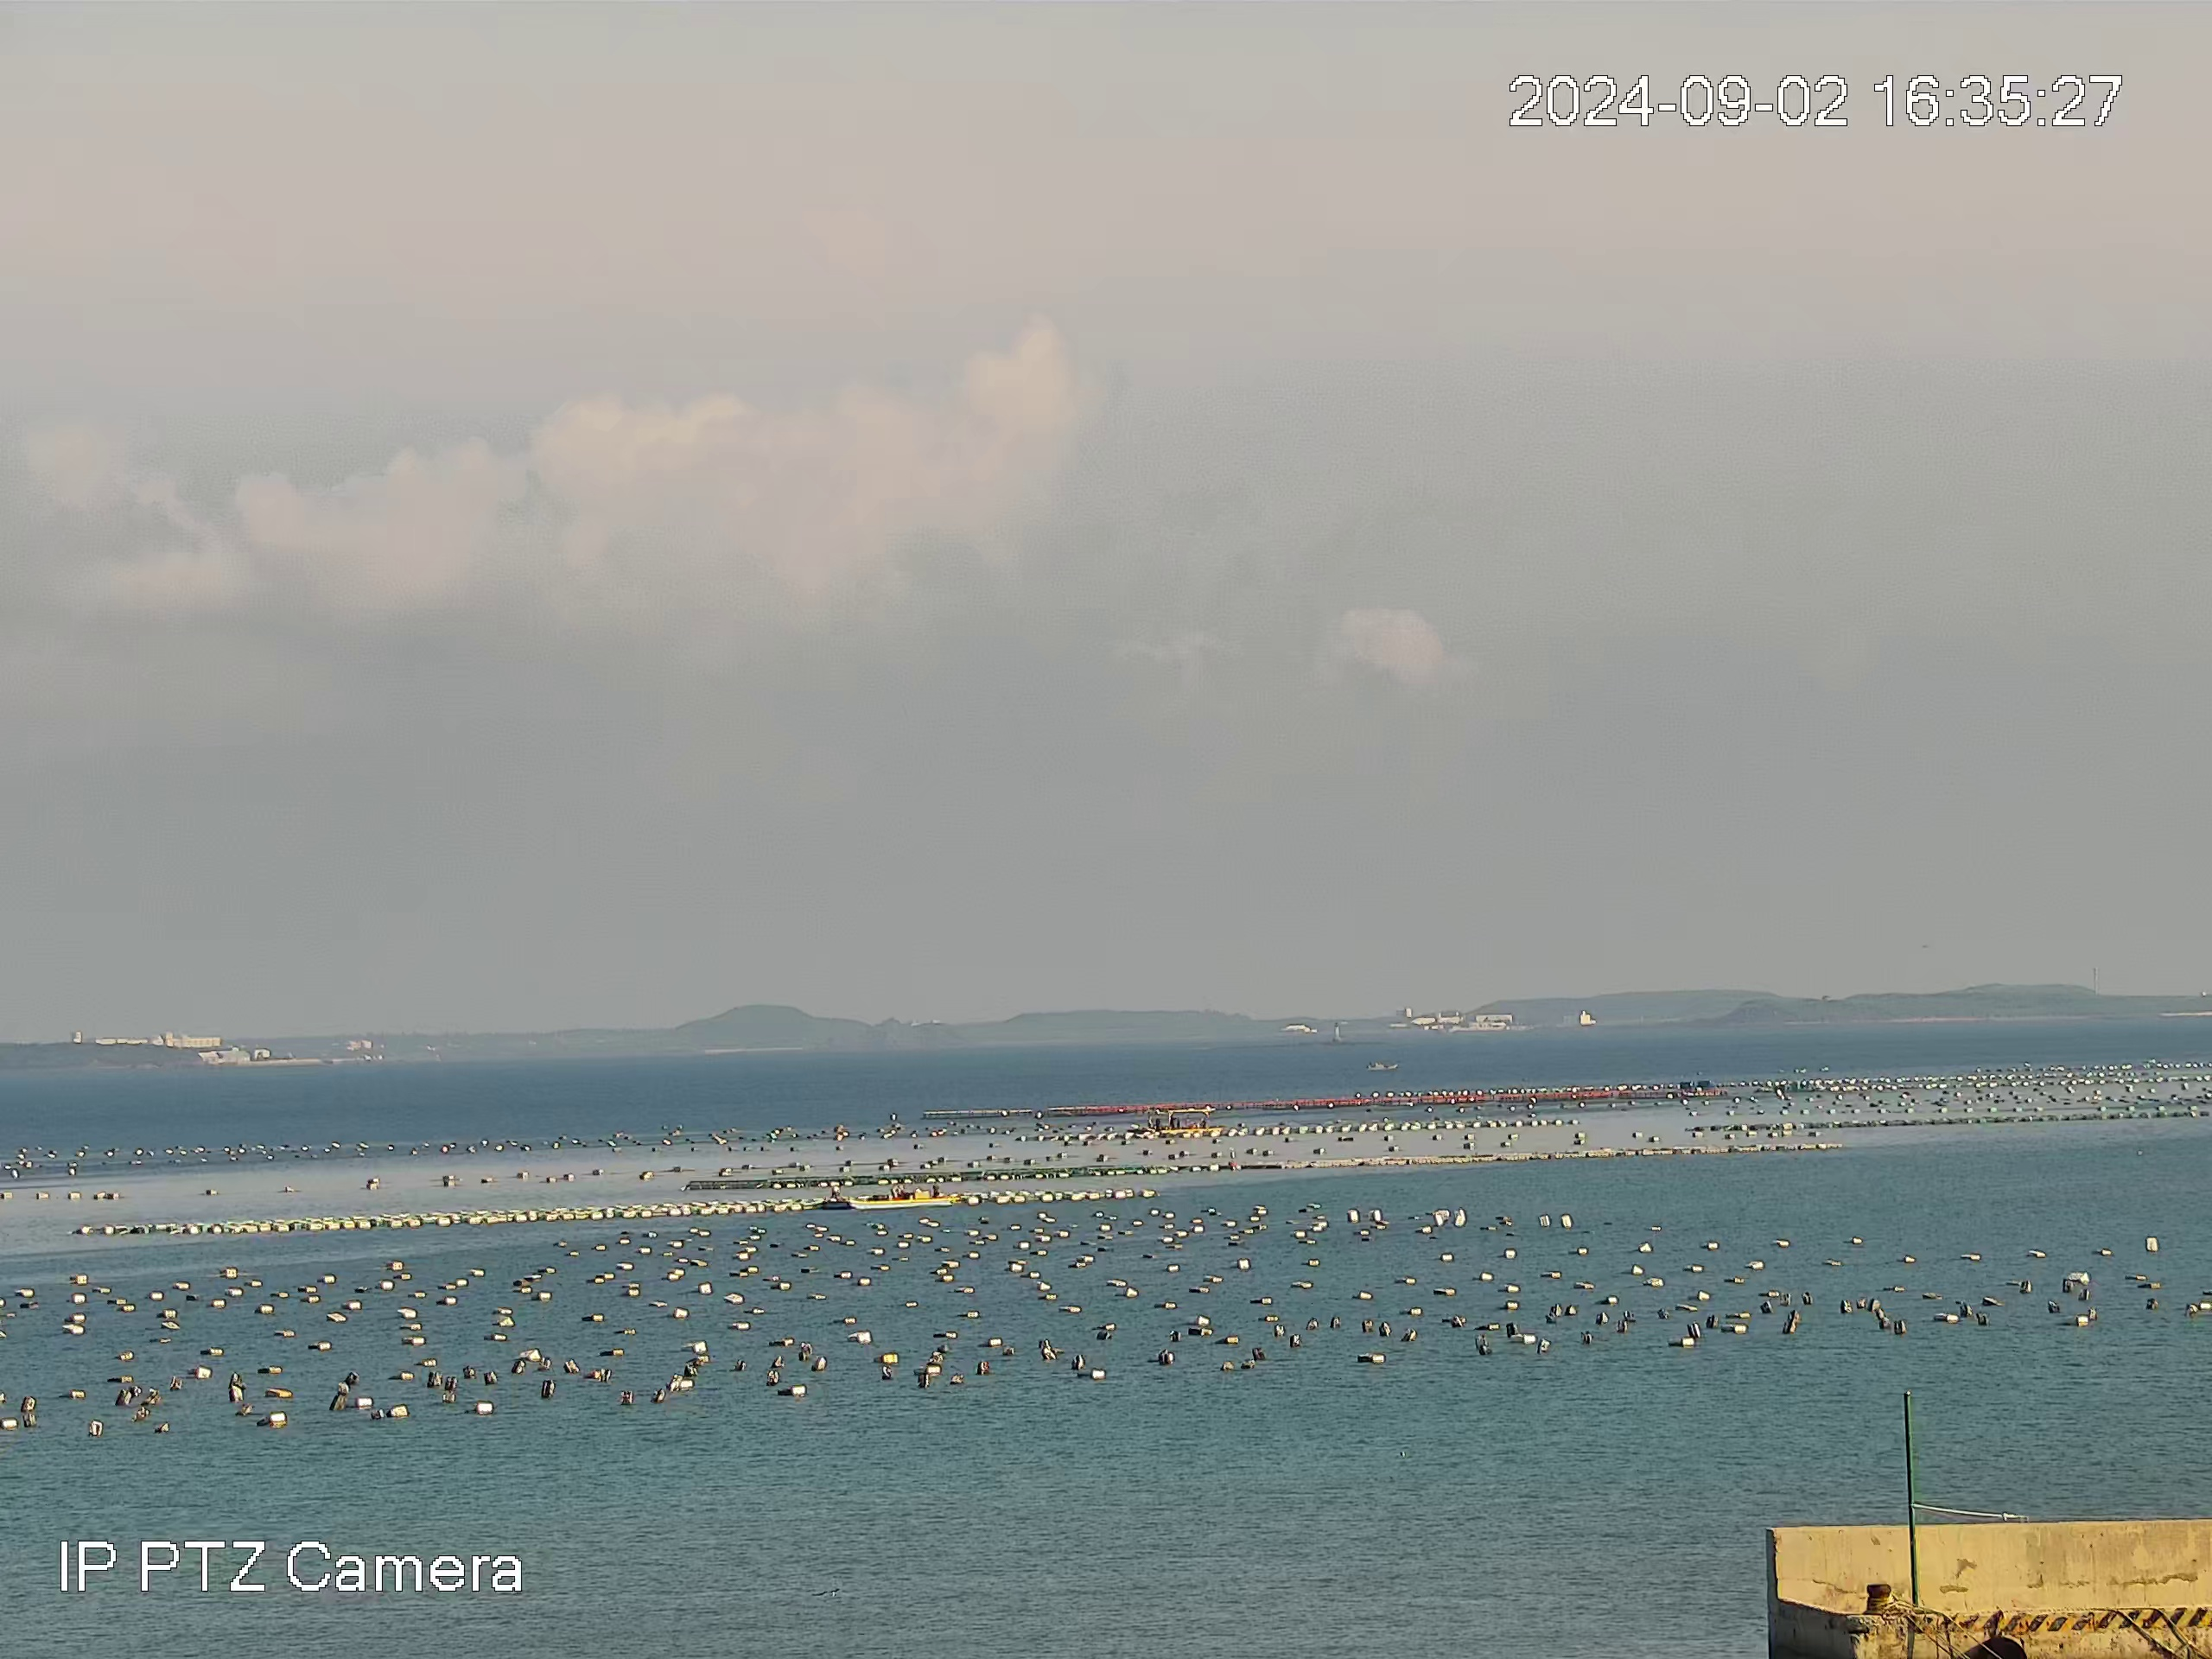boat: (846, 1180, 960, 1209), (1163, 1105, 1223, 1134), (1364, 1060, 1399, 1072)
